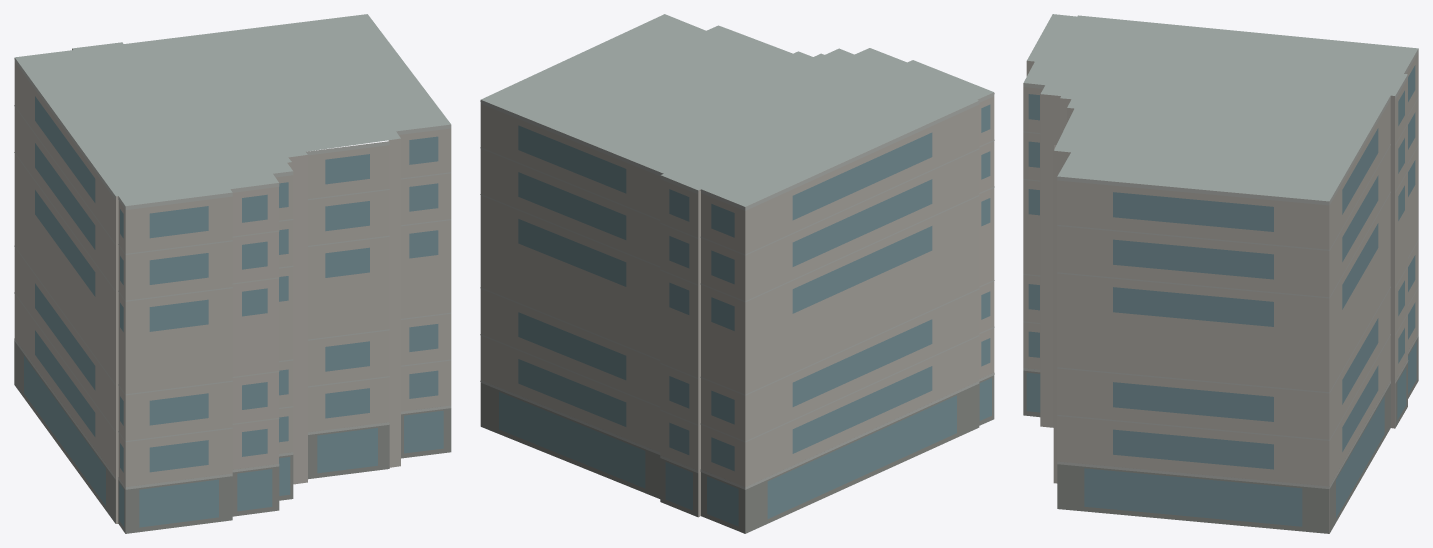
Rendered from survey-upis-32654577.glb.
3 views of the same model, side by side, from view 1: azimuth 30°, elevation 25°; view 2: azimuth 150°, elevation 25°; view 3: azimuth 270°, elevation 25° (orthographic).
Visible parts, largest first — view 1: survey-upis-32654577.tmp; view 2: survey-upis-32654577.tmp; view 3: survey-upis-32654577.tmp.
Boxes of the visible parts, bbox=[...] form: survey-upis-32654577.tmp: bbox=[14, 14, 451, 533]; survey-upis-32654577.tmp: bbox=[480, 14, 994, 533]; survey-upis-32654577.tmp: bbox=[1023, 14, 1418, 533].
Size of the model in its own units: 24.33 by 20.1 by 21.68.
